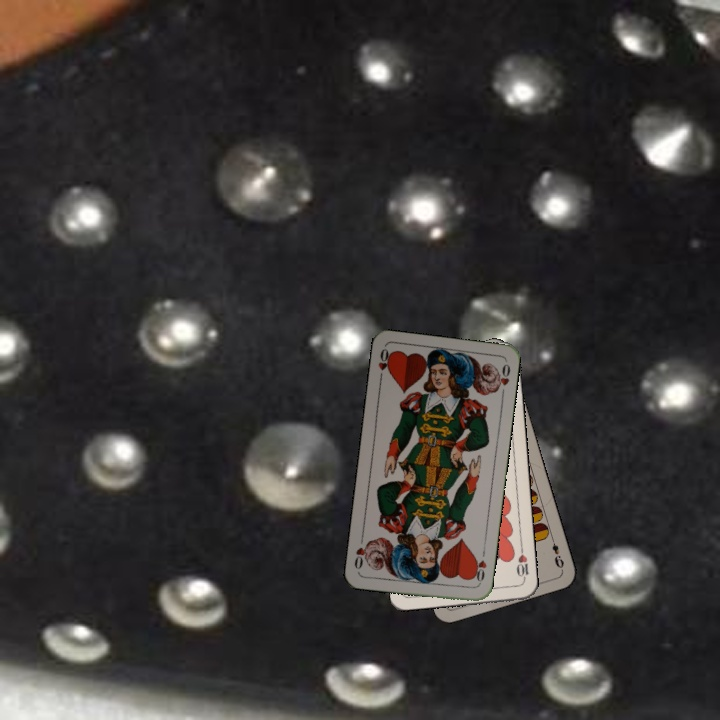E9: (547, 533, 567, 571)
H10: (512, 544, 532, 584)
HO: (469, 546, 489, 587), (374, 345, 394, 385)
